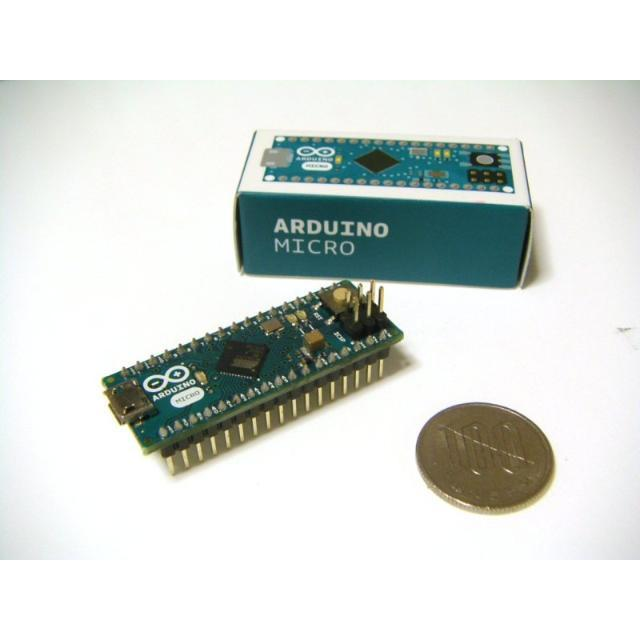Arduino-Micro: (104, 282, 403, 472)
